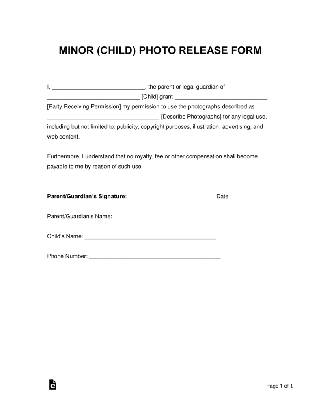textline: (83, 233, 219, 244), (112, 214, 247, 223), (87, 254, 223, 262), (41, 114, 162, 122), (127, 193, 217, 202), (50, 83, 149, 91), (43, 96, 142, 102), (173, 96, 272, 102), (229, 195, 259, 203)
